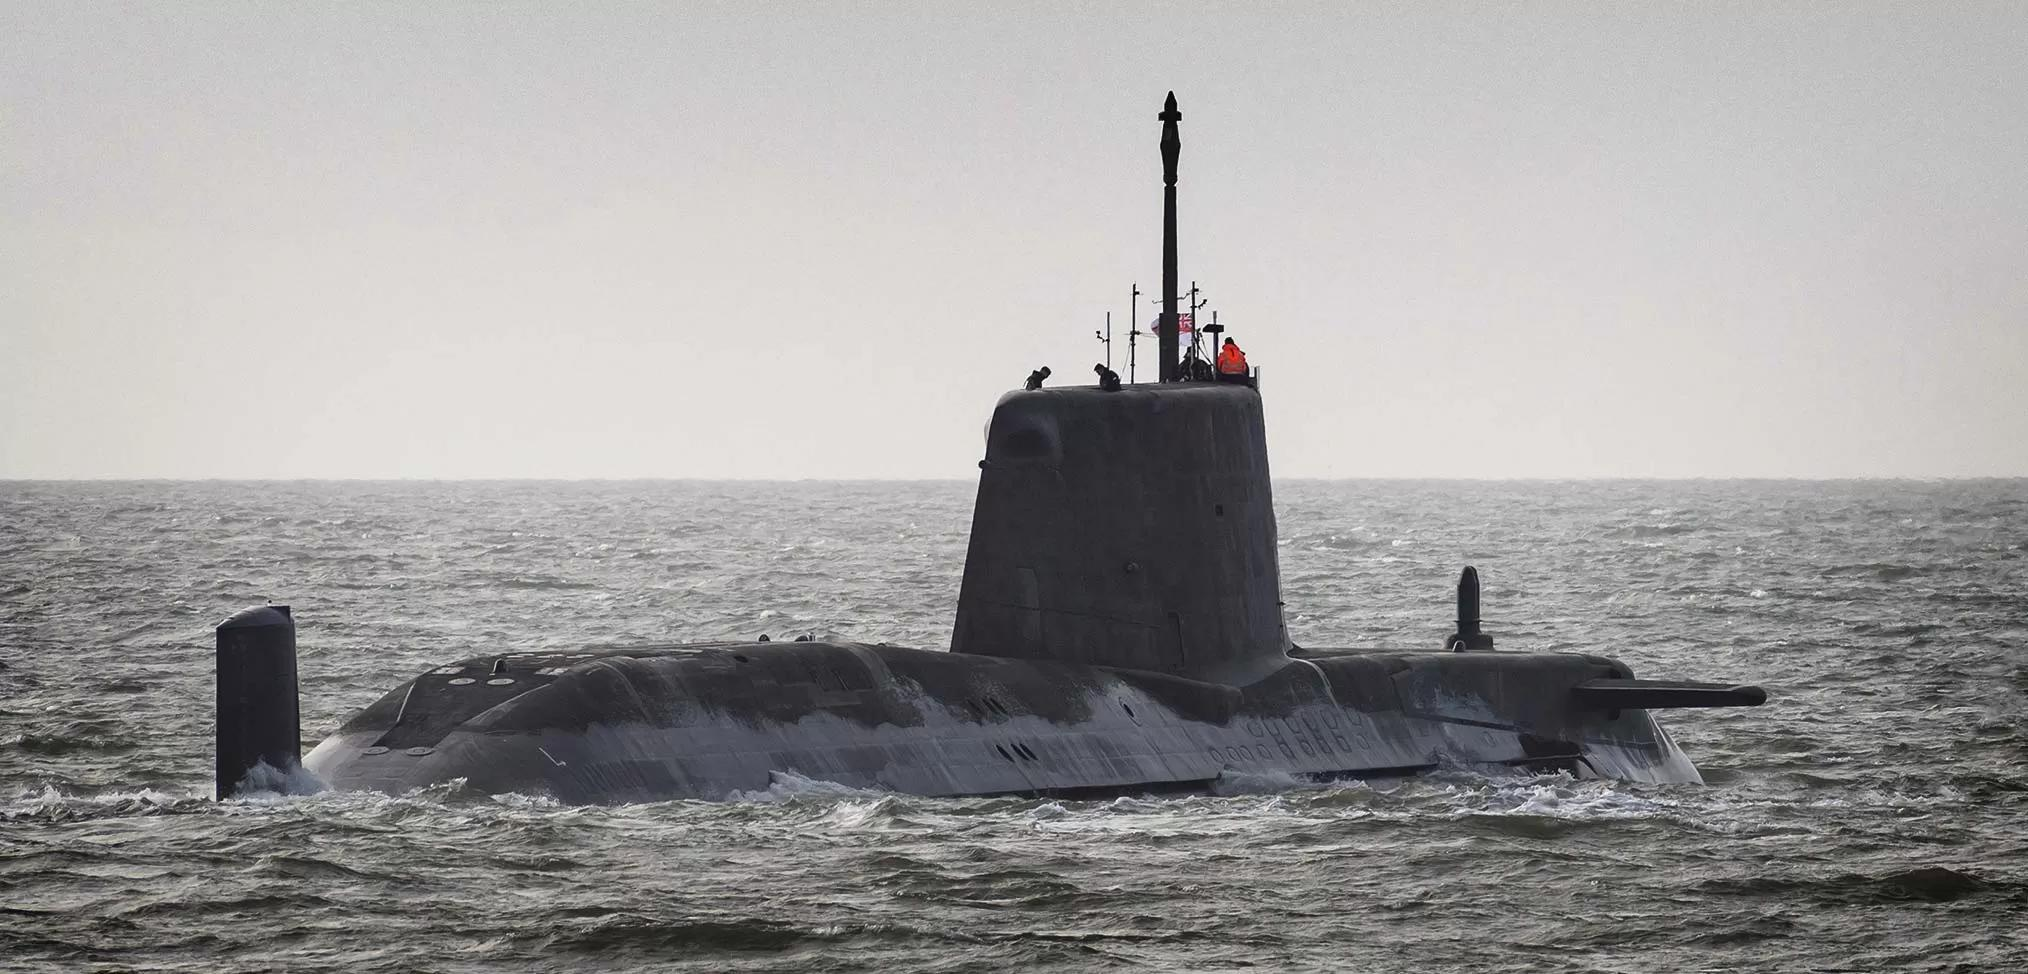Submarine: (57, 70, 1860, 894)
